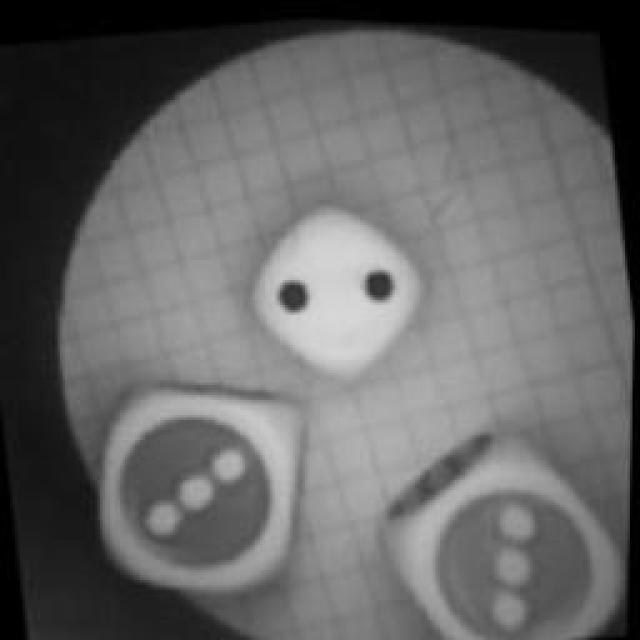dice_2: (226, 168, 446, 390)
dice_3: (70, 348, 328, 614), (345, 415, 633, 640)
